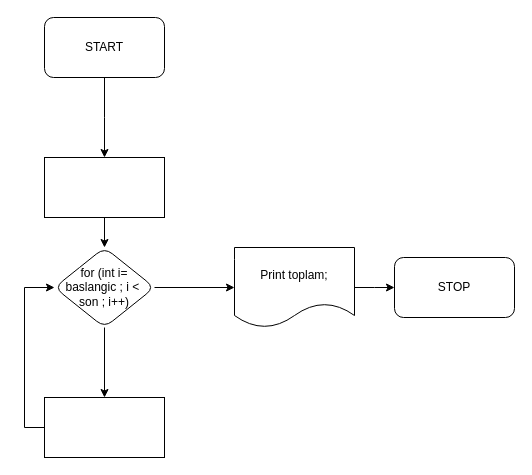
Image size: 532x475. Some labels were removed from this diagram. The shapes that lost their labels are listed below. From the top down, each one's centre as x and y in pixels, then its label:
At (104,187): "toplam=0; baslangic=20; son=50;".
At (104,427): "toplam=toplam + i;".
